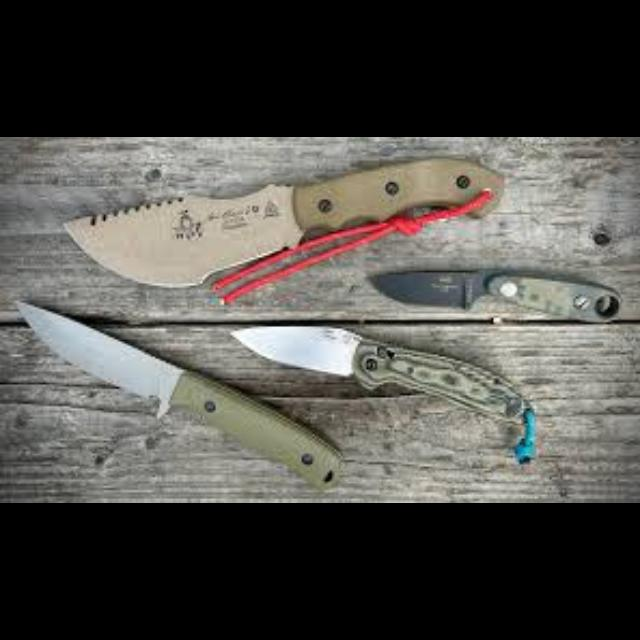Knife: (13, 300, 344, 490), (61, 154, 503, 288), (228, 322, 536, 464), (368, 266, 620, 322)
